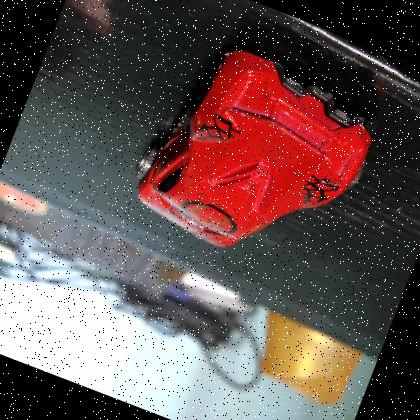Car: (114, 19, 402, 295)
